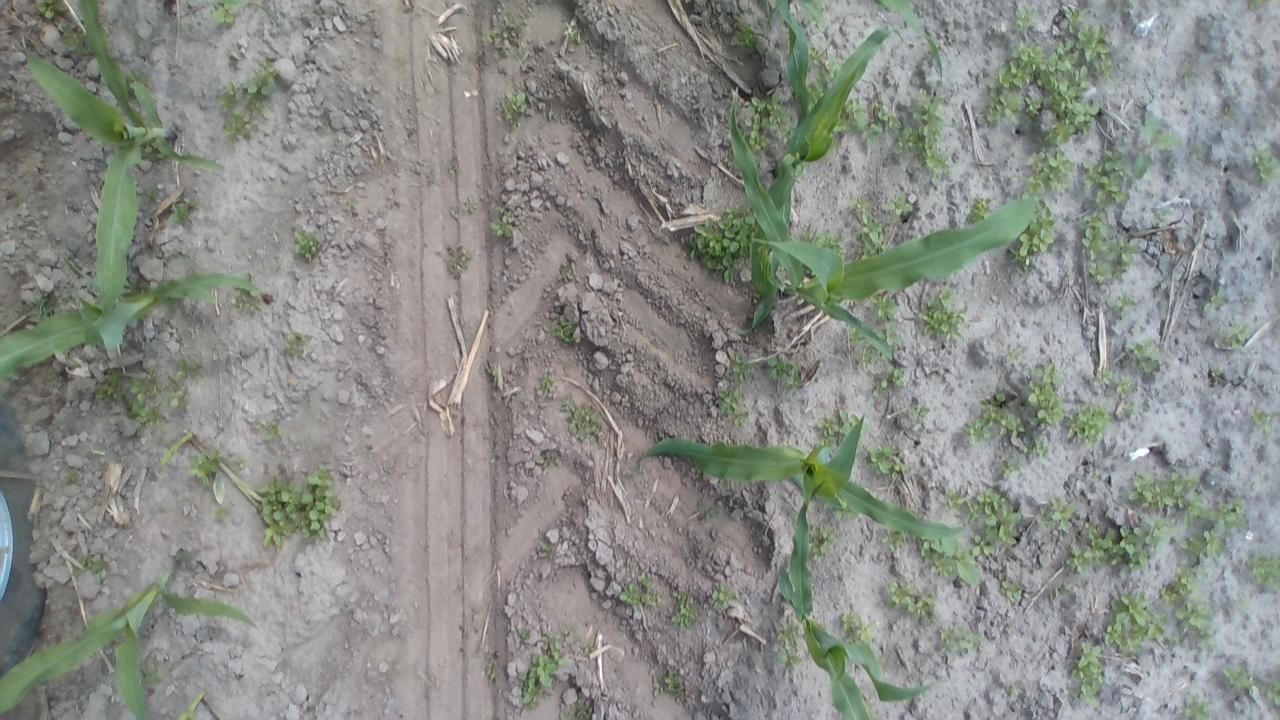Maize: (729, 82, 1042, 361), (635, 414, 968, 618), (18, 1, 182, 320), (1, 556, 260, 720), (770, 29, 904, 237), (1, 272, 252, 378), (774, 572, 934, 720), (772, 0, 944, 118), (156, 426, 258, 546), (173, 694, 220, 720)
Weeds: (986, 47, 1102, 144), (1161, 496, 1248, 602), (684, 209, 752, 283), (946, 485, 1021, 548), (896, 90, 950, 172), (1085, 516, 1163, 570), (522, 626, 566, 708), (962, 391, 1026, 444), (919, 536, 978, 588), (1136, 114, 1180, 183), (302, 465, 341, 538), (1026, 150, 1079, 200), (1080, 150, 1126, 206), (262, 471, 298, 542), (919, 287, 968, 339), (1128, 478, 1198, 510), (748, 96, 787, 152), (1028, 363, 1062, 427), (1066, 402, 1112, 445), (853, 195, 884, 256), (842, 99, 891, 137), (563, 398, 605, 442), (1019, 219, 1054, 268), (241, 66, 276, 112), (162, 360, 193, 409), (122, 378, 156, 422), (1175, 598, 1216, 634), (1249, 551, 1280, 594), (488, 14, 518, 58), (938, 624, 979, 656), (1116, 592, 1154, 626), (766, 355, 804, 389), (775, 621, 801, 670), (842, 610, 878, 644), (1042, 498, 1078, 532), (1076, 28, 1114, 60), (810, 523, 840, 563), (1070, 672, 1105, 705), (1132, 338, 1162, 376), (1134, 614, 1168, 646), (1097, 368, 1137, 395), (75, 553, 109, 584), (670, 592, 698, 628), (838, 408, 868, 441), (1218, 318, 1252, 346), (1222, 664, 1252, 694), (190, 453, 218, 485), (638, 573, 664, 607), (296, 229, 321, 264), (871, 366, 902, 394), (223, 110, 254, 138), (888, 579, 916, 610), (1075, 642, 1102, 674), (1110, 236, 1140, 264), (502, 92, 526, 126), (912, 588, 936, 622), (286, 331, 312, 362), (866, 446, 895, 473), (551, 314, 577, 344), (1067, 544, 1093, 574), (1202, 284, 1226, 316), (716, 386, 740, 417), (447, 246, 470, 278), (94, 371, 119, 400), (964, 196, 990, 223), (1253, 150, 1273, 185), (871, 292, 896, 320), (1184, 691, 1208, 720), (888, 194, 912, 223), (33, 0, 67, 20), (1082, 226, 1105, 255), (1103, 622, 1128, 648), (214, 0, 238, 27), (812, 232, 844, 252), (1252, 410, 1278, 434), (218, 83, 240, 110), (253, 420, 280, 442), (819, 418, 840, 446), (492, 214, 514, 240), (1115, 292, 1140, 314), (711, 581, 734, 604), (663, 671, 684, 696), (971, 535, 993, 558), (1089, 262, 1112, 284), (1012, 10, 1036, 31), (168, 202, 190, 224), (534, 372, 556, 394), (238, 288, 258, 311), (732, 355, 749, 382), (737, 26, 757, 47), (1060, 9, 1080, 29), (882, 530, 904, 548), (620, 584, 638, 606), (995, 460, 1016, 478), (1001, 345, 1020, 364), (1001, 580, 1021, 598), (1084, 210, 1106, 226), (463, 194, 479, 216), (1026, 439, 1048, 454), (879, 326, 901, 341), (808, 80, 822, 102), (1098, 60, 1116, 76), (822, 58, 836, 78), (914, 402, 930, 419), (891, 460, 908, 476), (1191, 142, 1206, 159), (64, 470, 82, 484), (851, 328, 864, 346), (516, 627, 532, 641), (1120, 400, 1136, 413), (545, 450, 558, 466), (861, 353, 873, 370), (576, 706, 590, 720), (1210, 366, 1224, 379), (1004, 682, 1014, 698), (733, 415, 747, 426)
